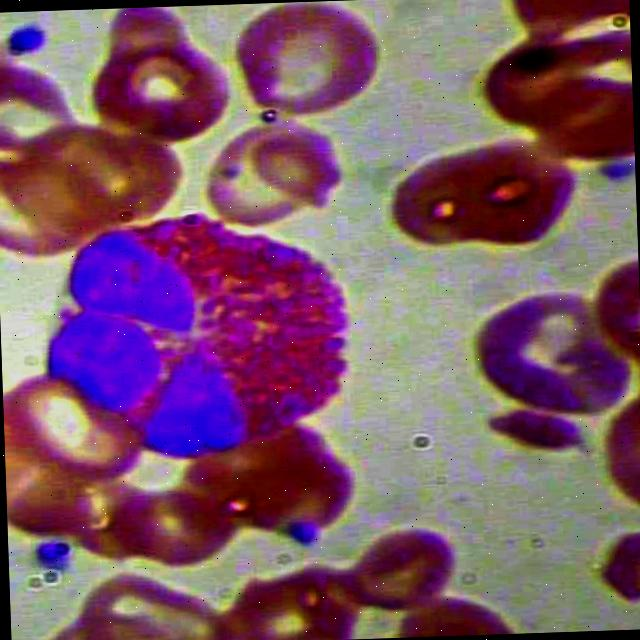Platelets: (2, 18, 58, 64), (34, 535, 78, 569)
RBC: (461, 278, 638, 424), (380, 140, 580, 258), (207, 114, 359, 238), (231, 0, 385, 122), (352, 526, 468, 610), (373, 592, 527, 638)
WBC: (39, 202, 364, 473)
